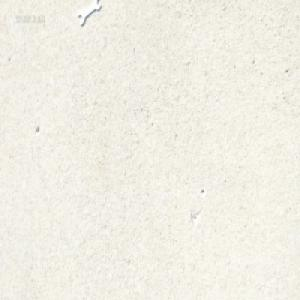Wrench: (78, 0, 101, 25)
